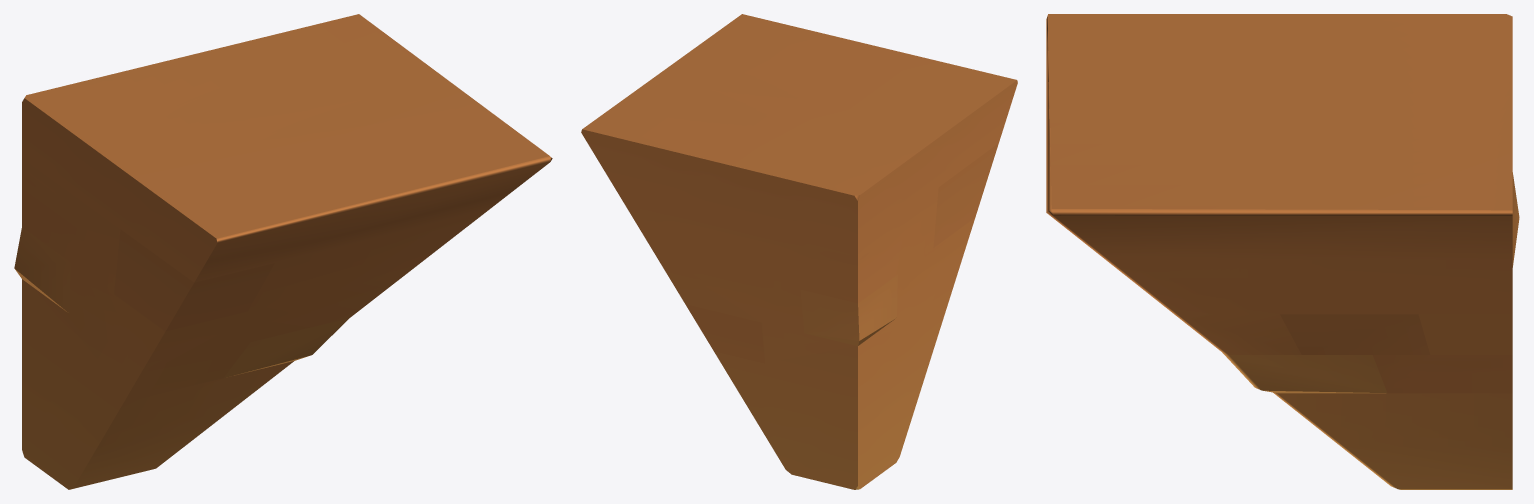
Rendered from pyramid_wall_corner_conv1.fbx.
The picture shows the model from 3 angles, left to right: view 1: azimuth 30°, elevation 25°; view 2: azimuth 150°, elevation 25°; view 3: azimuth 270°, elevation 25°; orthographic projection. The views are drawn at different scales.
Visible parts, largest first — view 1: pyramid_wall_corner_conv1; view 2: pyramid_wall_corner_conv1; view 3: pyramid_wall_corner_conv1.
Boxes of the visible parts, x1,y1,x2,y2 form: pyramid_wall_corner_conv1: (14, 14, 552, 489); pyramid_wall_corner_conv1: (581, 14, 1017, 489); pyramid_wall_corner_conv1: (1046, 14, 1519, 489).
Bounding box in the file's own units: 402 × 402 × 402.
